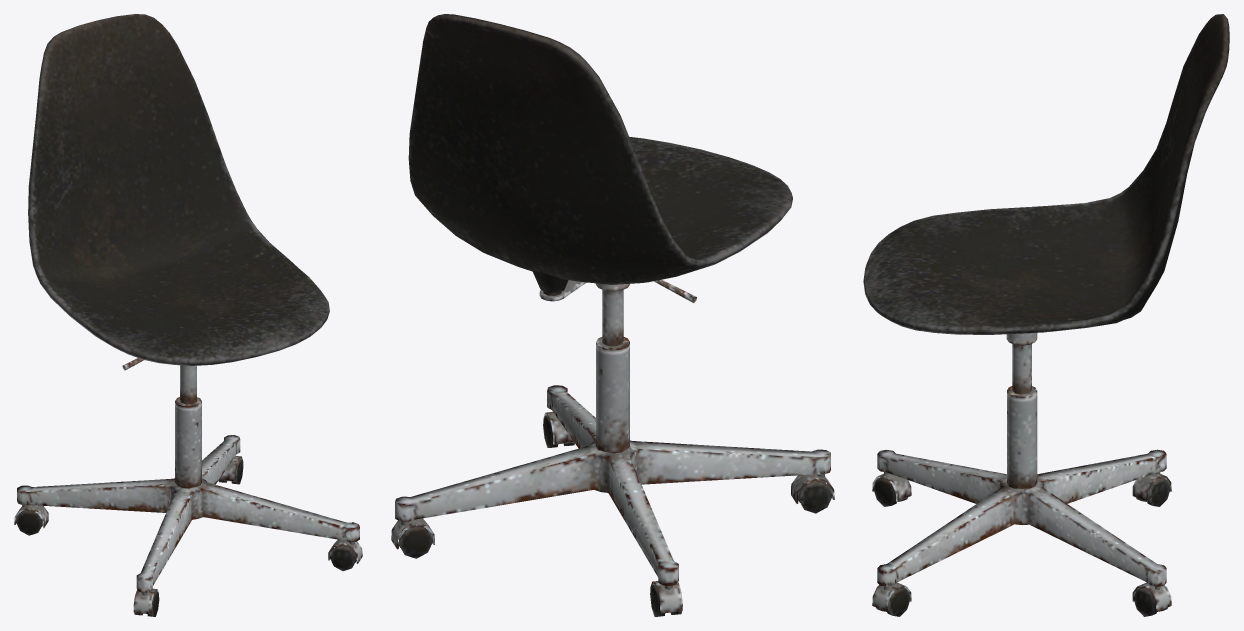
File: 121_OfficeChair.fbx
3 views of the same model, side by side, from view 1: azimuth 30°, elevation 25°; view 2: azimuth 150°, elevation 25°; view 3: azimuth 270°, elevation 25° (orthographic). The views are drawn at different scales.
Visible parts, largest first — view 1: LOD_1_Group_0_Sub_1__sm30_121_OfficeChairB01A_A_Mat; view 2: LOD_1_Group_0_Sub_1__sm30_121_OfficeChairB01A_A_Mat; view 3: LOD_1_Group_0_Sub_1__sm30_121_OfficeChairB01A_A_Mat.
Part boxes in pixels (x1,y1,x2,y2): LOD_1_Group_0_Sub_1__sm30_121_OfficeChairB01A_A_Mat: (14,14,362,616); LOD_1_Group_0_Sub_1__sm30_121_OfficeChairB01A_A_Mat: (391,14,834,616); LOD_1_Group_0_Sub_1__sm30_121_OfficeChairB01A_A_Mat: (863,14,1229,616).
Bounding box in the file's own units: 0.5319 × 1.03 × 0.6507.
